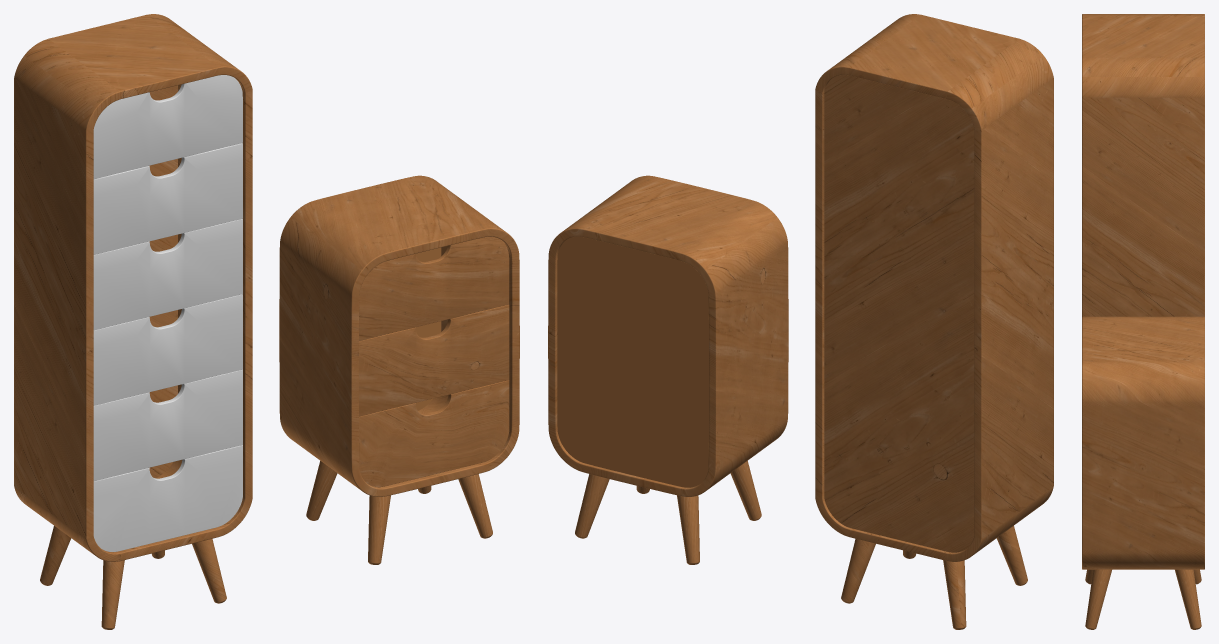
Rendered from cupboard.glb.
3 renders of one model, left to right at view 1: azimuth 30°, elevation 25°; view 2: azimuth 150°, elevation 25°; view 3: azimuth 270°, elevation 25°, orthographic. The views are drawn at different scales.
Parts seen in each view (by area): view 1: Cube020_0, Cube015_2; view 2: Cube020_0, Cube015_2; view 3: Cube020_0, Cube015_2.
Boxes of the visible parts, x1,y1,x2,y2 form: Cube020_0: (14,14,252,629); Cube015_2: (279,175,519,564); Cube020_0: (815,14,1053,629); Cube015_2: (548,175,788,564); Cube020_0: (1082,14,1204,316); Cube015_2: (1082,316,1204,629).
Size of the model in its own units: 1.2 by 1.43 by 0.3471.
4 materials, 3 textured.
